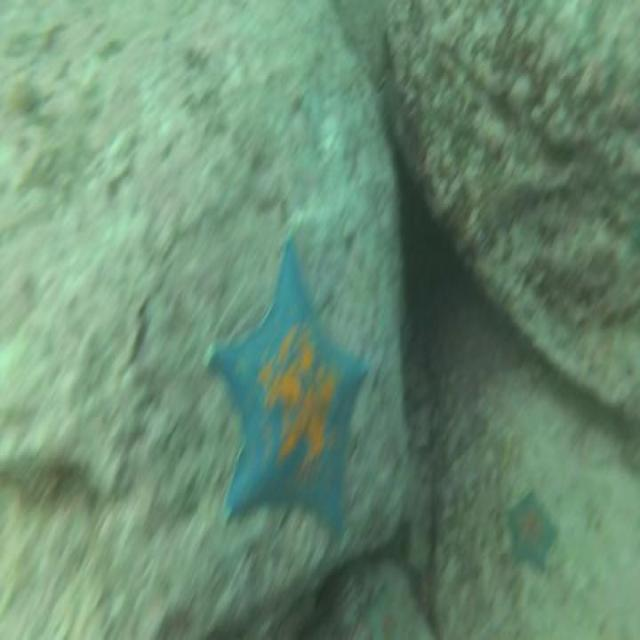starfish: (202, 237, 372, 544), (504, 482, 559, 578), (360, 583, 415, 640)
